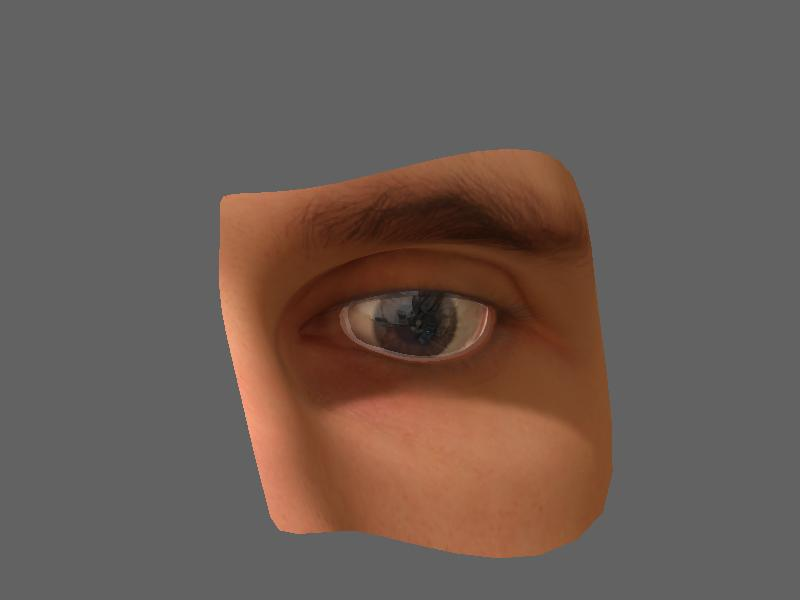iris: (375, 289, 458, 356)
